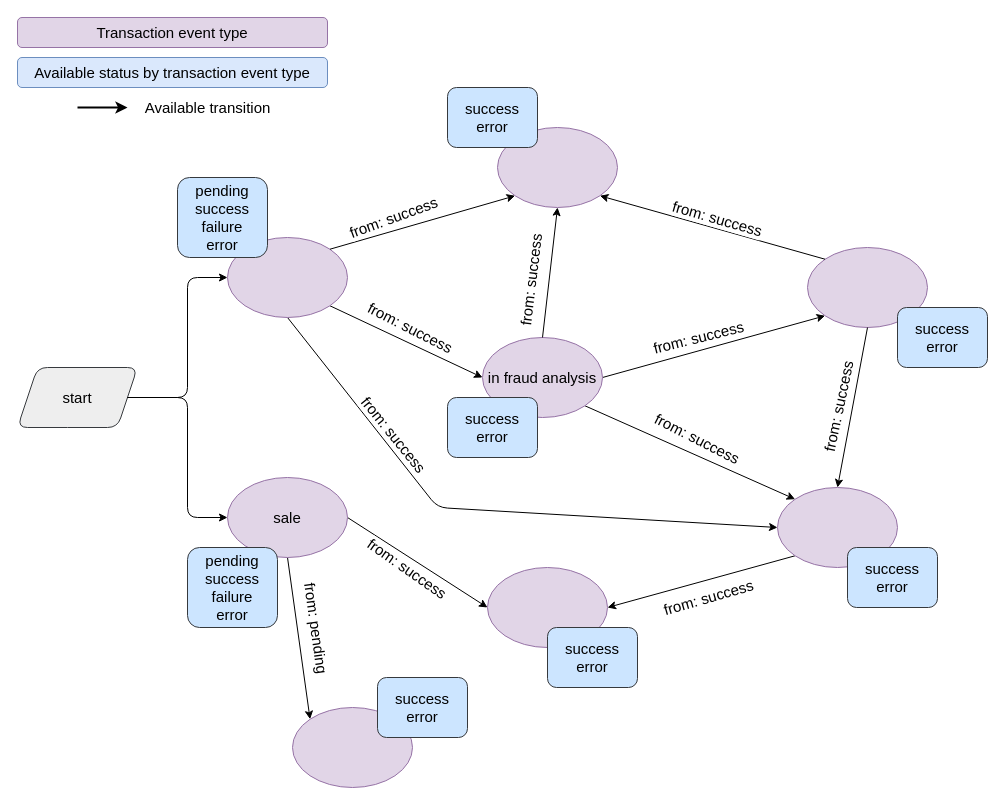
Image size: 1005x805. Some labels were removed from this diagram. Each missing label, with the box of its shape:
authorization: (226, 236, 348, 318)
capture: (776, 486, 898, 568)
expiration: (292, 706, 412, 788)
needs merchant review: (806, 246, 928, 328)
refund: (486, 566, 608, 648)
void: (496, 126, 618, 208)
